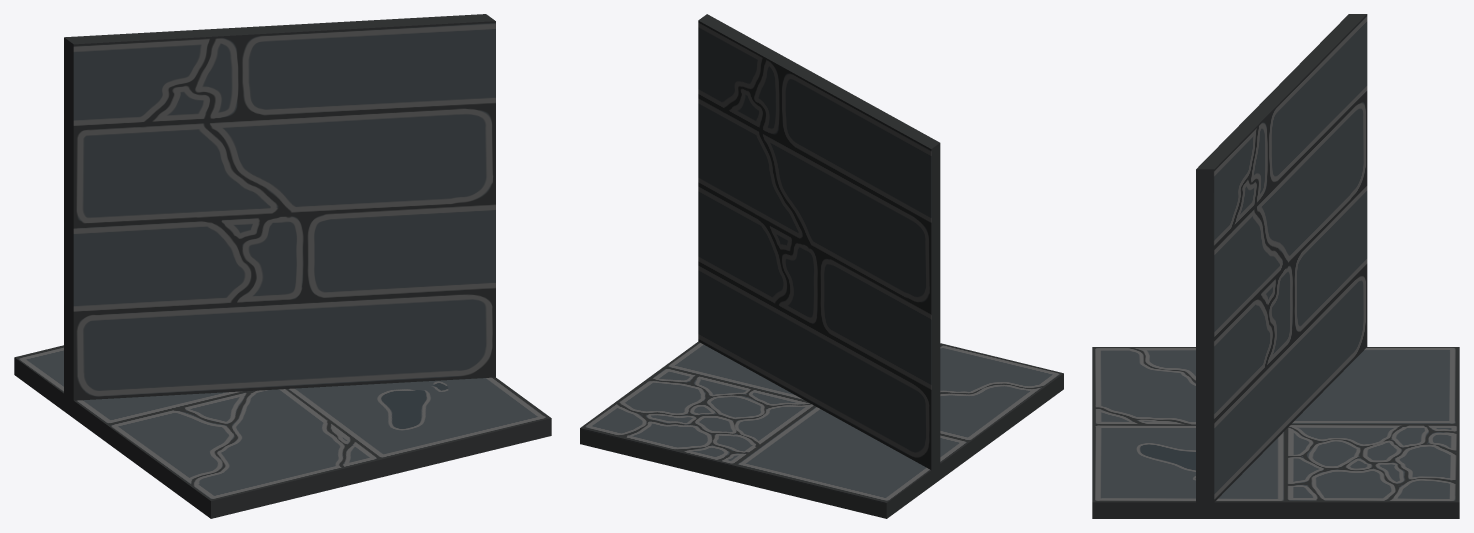
Rendered from Wall-XLCURVE-NNE_v1.1.fbx.
3 renders of one model, left to right at view 1: azimuth 30°, elevation 25°; view 2: azimuth 150°, elevation 25°; view 3: azimuth 270°, elevation 25°, orthographic. The views are drawn at different scales.
Parts seen in each view (by area): view 1: Tile_Main.048; view 2: Tile_Main.048; view 3: Tile_Main.048.
Part boxes in pixels (x1=…): Tile_Main.048: x1=14, y1=14, x2=551, y2=518; Tile_Main.048: x1=580, y1=14, x2=1063, y2=518; Tile_Main.048: x1=1092, y1=14, x2=1459, y2=518.
Size of the model in its own units: 100 by 100 by 105.
